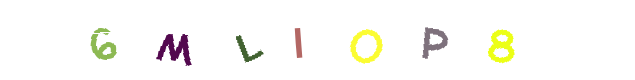6: (66, 0, 146, 80)
8: (398, 0, 478, 80)
I: (275, 0, 355, 80)
L: (206, 0, 286, 80)
M: (135, 0, 215, 80)
O: (277, 0, 357, 80)
P: (325, 0, 405, 80)
